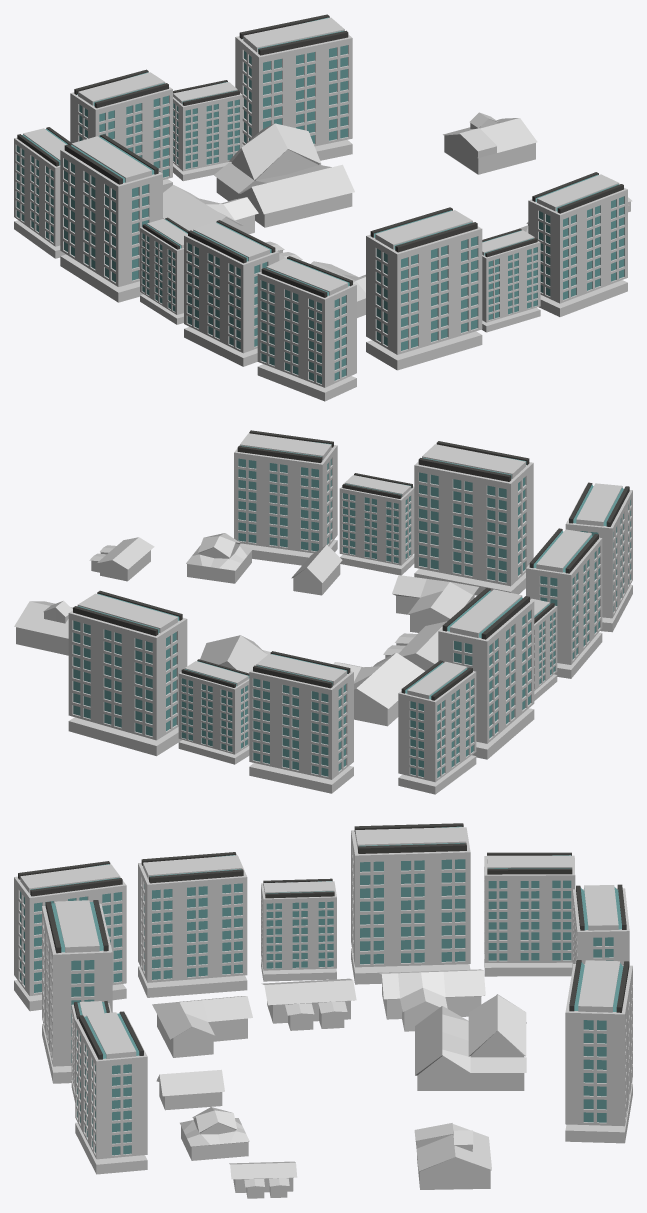
The model's file is city_buildings.gltf.
The picture shows the model from 3 angles, top to bottom: view 1: azimuth 30°, elevation 25°; view 2: azimuth 150°, elevation 25°; view 3: azimuth 270°, elevation 25°; orthographic projection. The views are drawn at different scales.
Parts seen in each view (by area): view 1: Commercial building lowpoly 09.026, Commercial building lowpoly 09.021, Commercial building lowpoly 09.043, Commercial building lowpoly 09.047, Cube.012, Commercial building lowpoly 09.039, Commercial building lowpoly 09.013, Commercial building lowpoly 09.061, Commercial building lowpoly 09.050, Commercial building lowpoly 09.064, Commercial building lowpoly 09.029, Commercial building lowpoly 09.025 (+21 smaller); view 2: Commercial building lowpoly 09.047, Commercial building lowpoly 09.026, Commercial building lowpoly 09.061, Commercial building lowpoly 09.039, Commercial building lowpoly 09.021, Commercial building lowpoly 09.064, Commercial building lowpoly 09.013, Commercial building lowpoly 09.029, Commercial building lowpoly 09.050, Commercial building lowpoly 09.043, Commercial building lowpoly 09.025, Commercial building lowpoly 09.046 (+24 smaller); view 3: Commercial building lowpoly 09.021, Commercial building lowpoly 09.013, Commercial building lowpoly 09.047, Cube.012, Commercial building lowpoly 09.039, Commercial building lowpoly 09.064, Commercial building lowpoly 09.026, Commercial building lowpoly 09.043, Commercial building lowpoly 09.018, Commercial building lowpoly 09.022, Cube, Cube.010 (+23 smaller).
Boxes of the visible parts, left/top/right/bottom form: Commercial building lowpoly 09.026: left=366, top=210, right=482, bottom=370; Commercial building lowpoly 09.021: left=60, top=136, right=162, bottom=302; Commercial building lowpoly 09.043: left=257, top=258, right=356, bottom=401; Commercial building lowpoly 09.047: left=235, top=17, right=352, bottom=160; Cube.012: left=214, top=123, right=354, bottom=227; Commercial building lowpoly 09.039: left=528, top=174, right=627, bottom=316; Commercial building lowpoly 09.013: left=184, top=222, right=279, bottom=366; Commercial building lowpoly 09.061: left=70, top=72, right=172, bottom=192; Commercial building lowpoly 09.050: left=173, top=82, right=242, bottom=181; Commercial building lowpoly 09.064: left=14, top=128, right=66, bottom=258; Commercial building lowpoly 09.029: left=482, top=230, right=540, bottom=332; Commercial building lowpoly 09.025: left=374, top=210, right=477, bottom=350; Commercial building lowpoly 09.047: left=68, top=593, right=187, bottom=756; Commercial building lowpoly 09.026: left=414, top=444, right=533, bottom=595; Commercial building lowpoly 09.061: left=249, top=654, right=353, bottom=793; Commercial building lowpoly 09.039: left=234, top=433, right=337, bottom=565; Commercial building lowpoly 09.021: left=438, top=589, right=534, bottom=759; Commercial building lowpoly 09.064: left=398, top=661, right=476, bottom=794; Commercial building lowpoly 09.013: left=526, top=529, right=602, bottom=678; Commercial building lowpoly 09.029: left=339, top=475, right=414, bottom=575; Commercial building lowpoly 09.050: left=178, top=661, right=249, bottom=764; Commercial building lowpoly 09.043: left=565, top=483, right=632, bottom=632; Commercial building lowpoly 09.025: left=419, top=456, right=526, bottom=582; Commercial building lowpoly 09.046: left=73, top=593, right=179, bottom=736; Commercial building lowpoly 09.021: left=351, top=827, right=470, bottom=984; Commercial building lowpoly 09.013: left=138, top=855, right=247, bottom=997; Commercial building lowpoly 09.047: left=565, top=960, right=632, bottom=1143; Cube.012: left=415, top=994, right=526, bottom=1090; Commercial building lowpoly 09.039: left=75, top=1012, right=147, bottom=1174; Commercial building lowpoly 09.064: left=484, top=855, right=575, bottom=976; Commercial building lowpoly 09.026: left=42, top=900, right=112, bottom=1083; Commercial building lowpoly 09.043: left=14, top=864, right=126, bottom=1011; Commercial building lowpoly 09.018: left=261, top=881, right=336, bottom=981; Commercial building lowpoly 09.022: left=359, top=826, right=465, bottom=964; Cube: left=379, top=969, right=485, bottom=1031; Cube.010: left=414, top=1123, right=491, bottom=1189.
Size of the model in its own units: 265 by 66.19 by 270.
